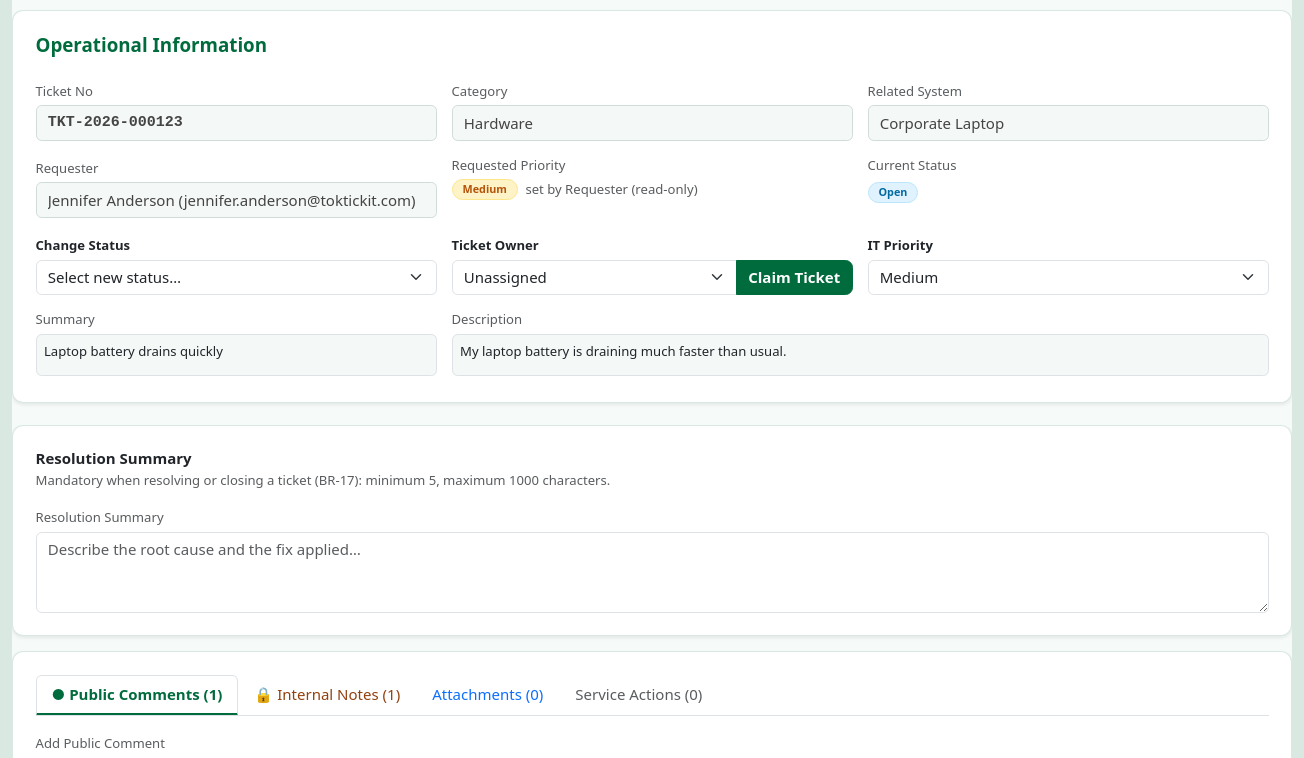
StaffTicketDetail — Issue 8: Public Comments & Internal Notes tabs › shows the amber confidentiality banner and 🔒 Internal badge on the Internal Notes tab
Click the tab with test id "internal-notes-tab" at (327,694), box [238,675,416,714]
(page scrolled)
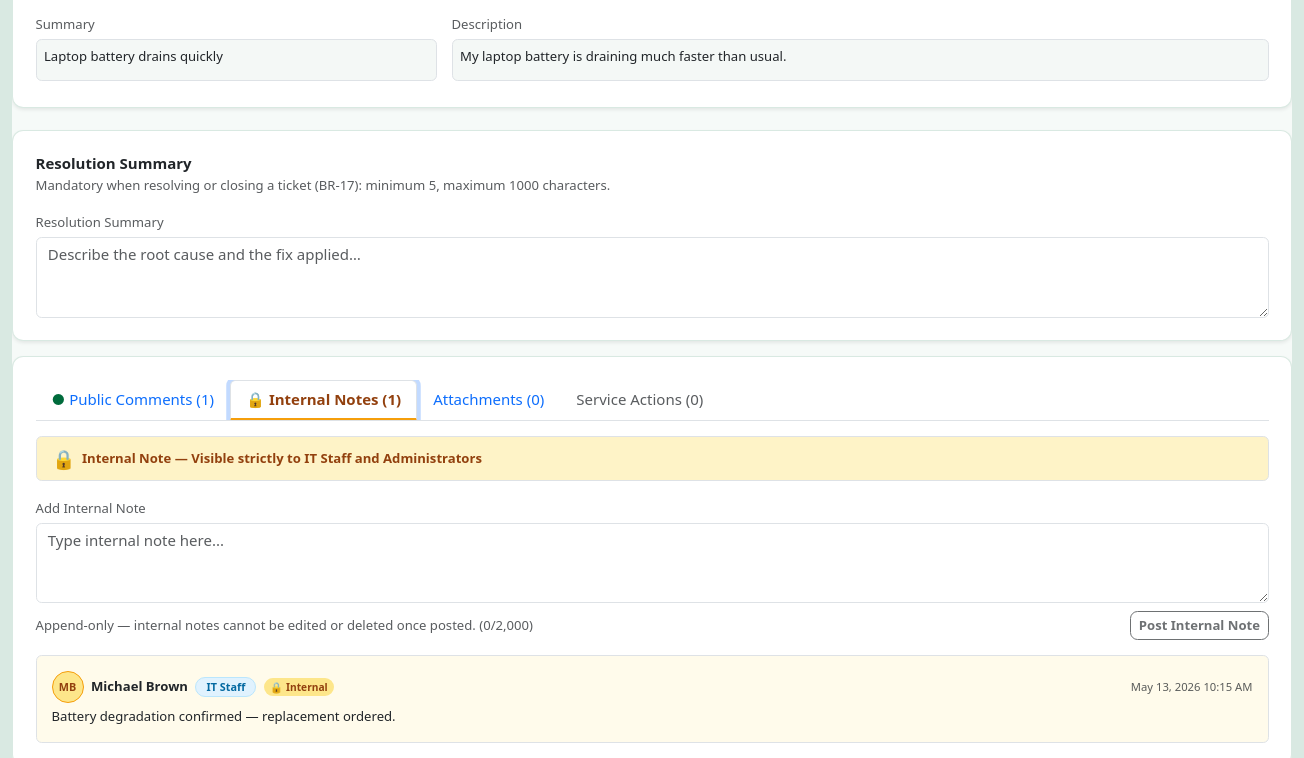
Now the element with test id "internal-notes-warning" shows "🔒", box [52,446,74,471]
Now the element with test id "internal-notes-warning" shows "Visible strictly to IT Staff and Administrators", box [82,449,482,467]
Now the text with test id "internal-note-badge" shows "Internal", box [270,680,328,694]
